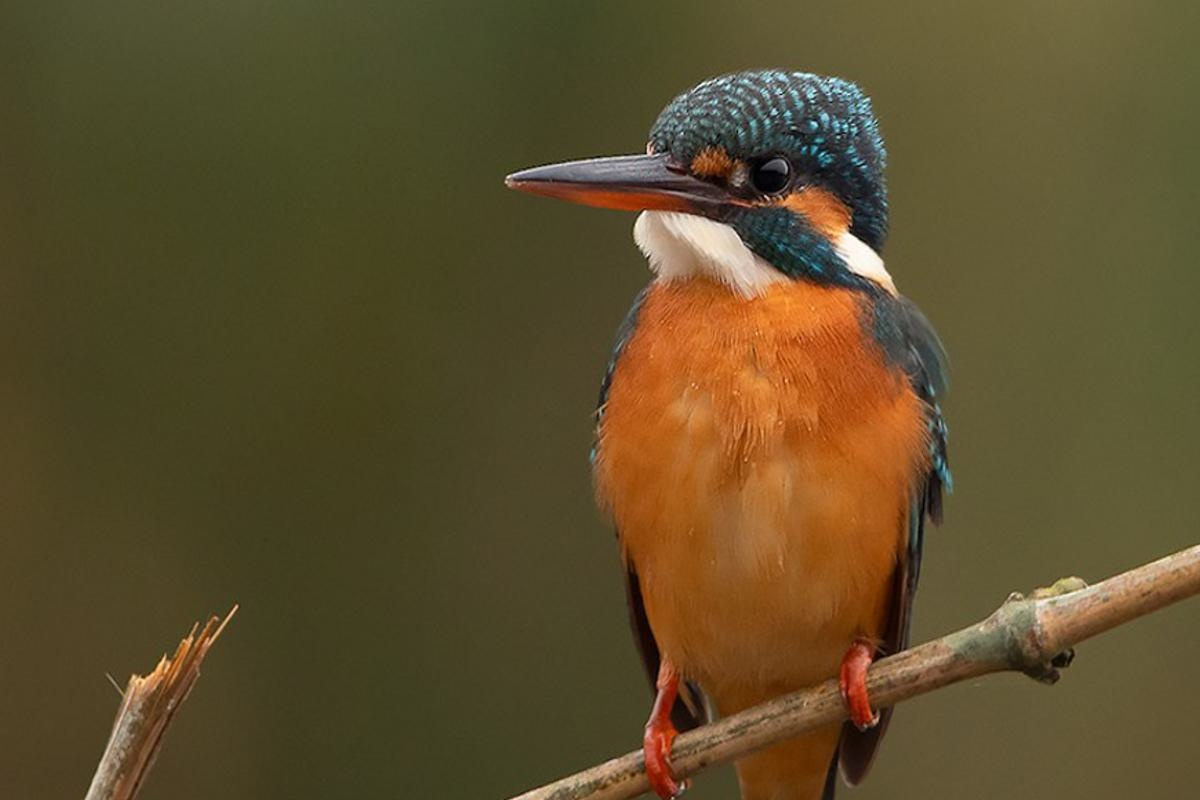kingfisher: (480, 71, 1016, 800)
